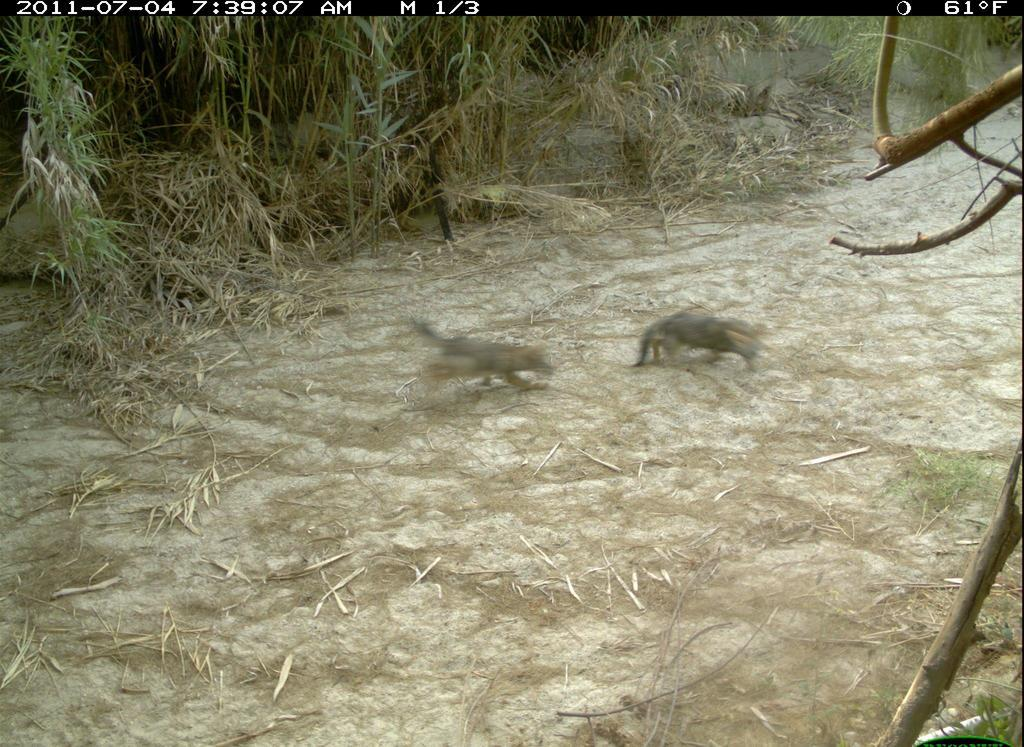coyote: (387, 301, 573, 424), (626, 299, 775, 387)
